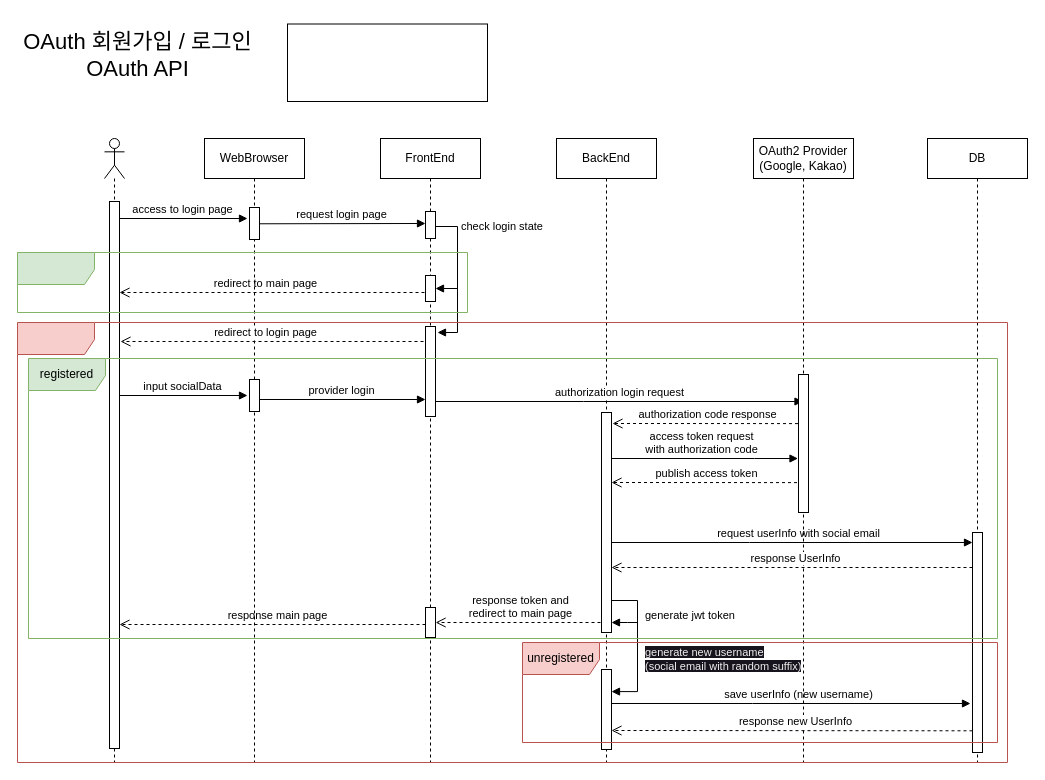
The diagram is 1045 pixels wide and 780 high, and some of its shapes have lost their labels. Here are the shapes that lost their labels. From the top down, the box of each, then its label:
(286, 23, 488, 102): socialData:string email = socialEmail@starRoad.com password = socialPassword
(16, 252, 468, 312): logged in
(16, 322, 1008, 762): not logged in
